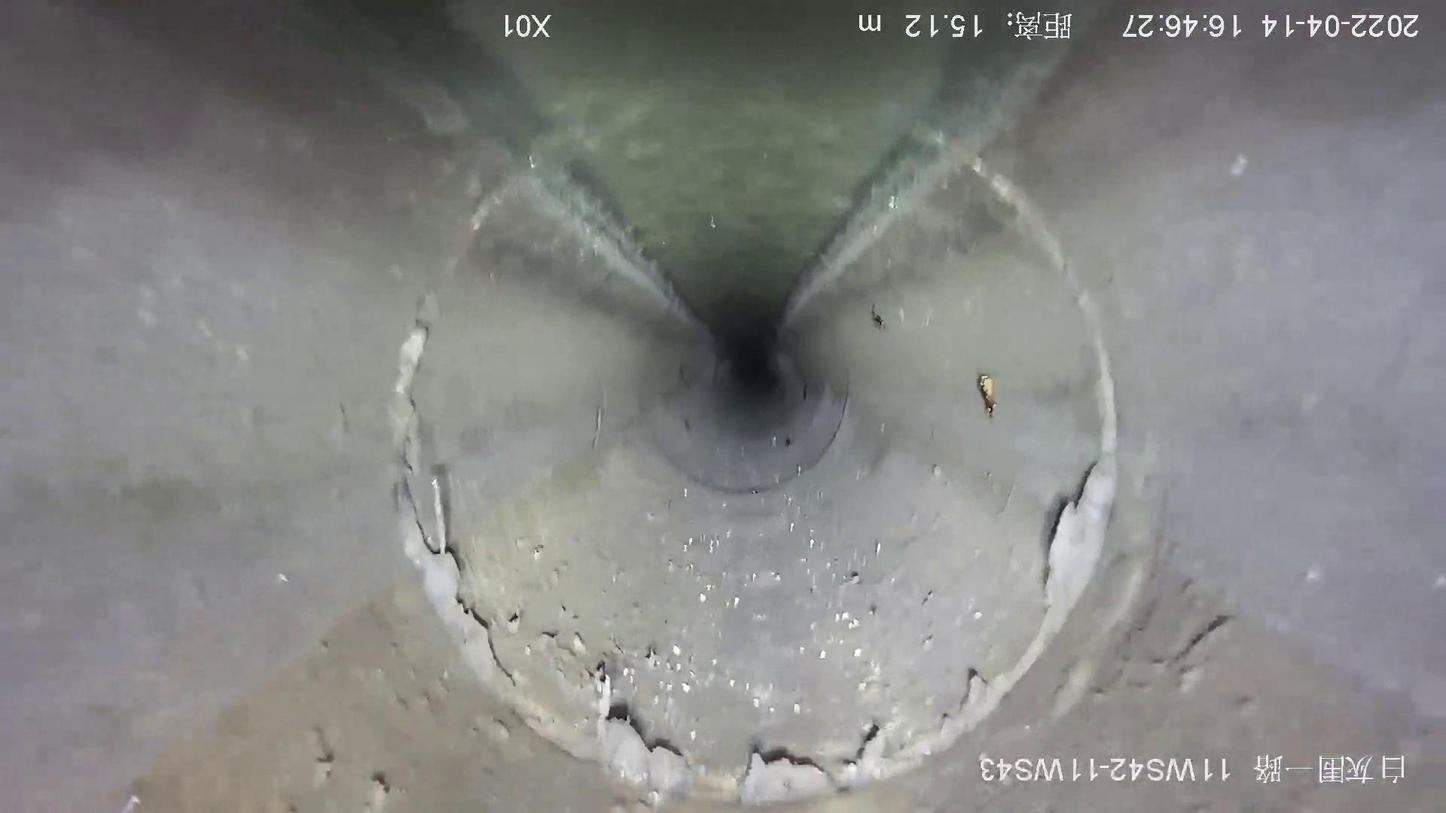JKCL: (382, 299, 1131, 808)
